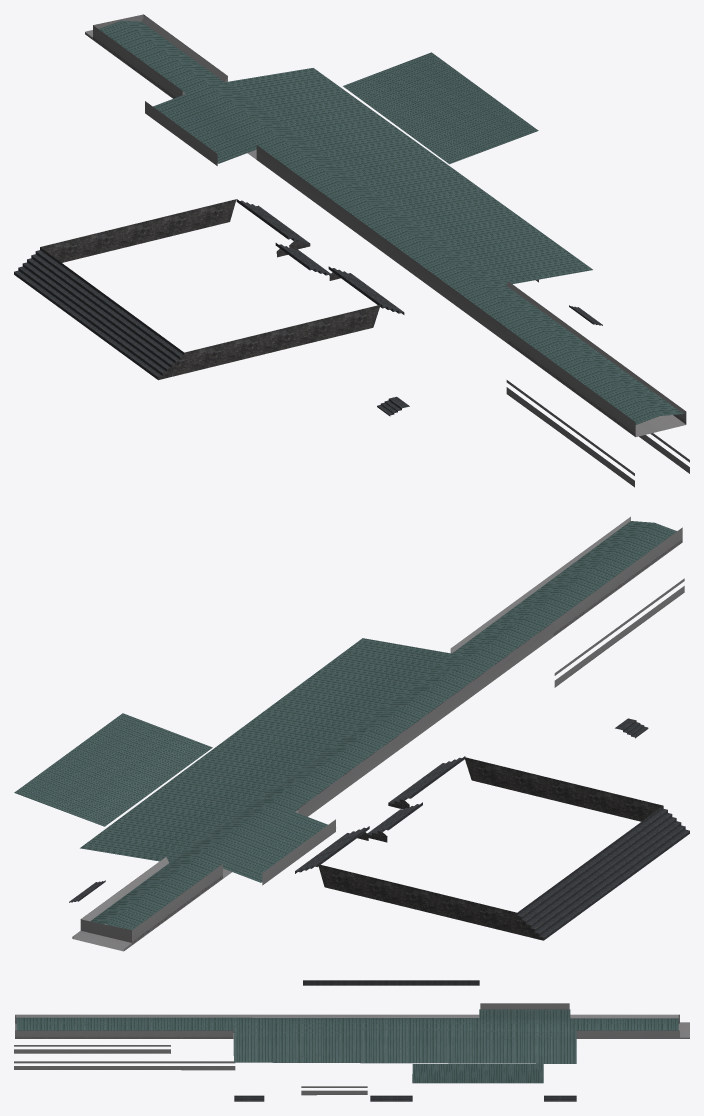
File: part-polysurface455_van_phong_doan_loop_0.glb
The picture shows the model from 3 angles, top to bottom: view 1: azimuth 30°, elevation 25°; view 2: azimuth 150°, elevation 25°; view 3: azimuth 270°, elevation 25°; orthographic projection. The views are drawn at different scales.
Visible parts, largest first — view 1: polySurface455; view 2: polySurface455; view 3: polySurface455.
Part boxes in pixels (left/top/right/bottom): polySurface455: left=14, top=14, right=689, bottom=487; polySurface455: left=14, top=516, right=689, bottom=951; polySurface455: left=14, top=980, right=689, bottom=1101.
Bounding box in the file's own units: 108 × 15.55 × 219.
1 material, 1 textured.
